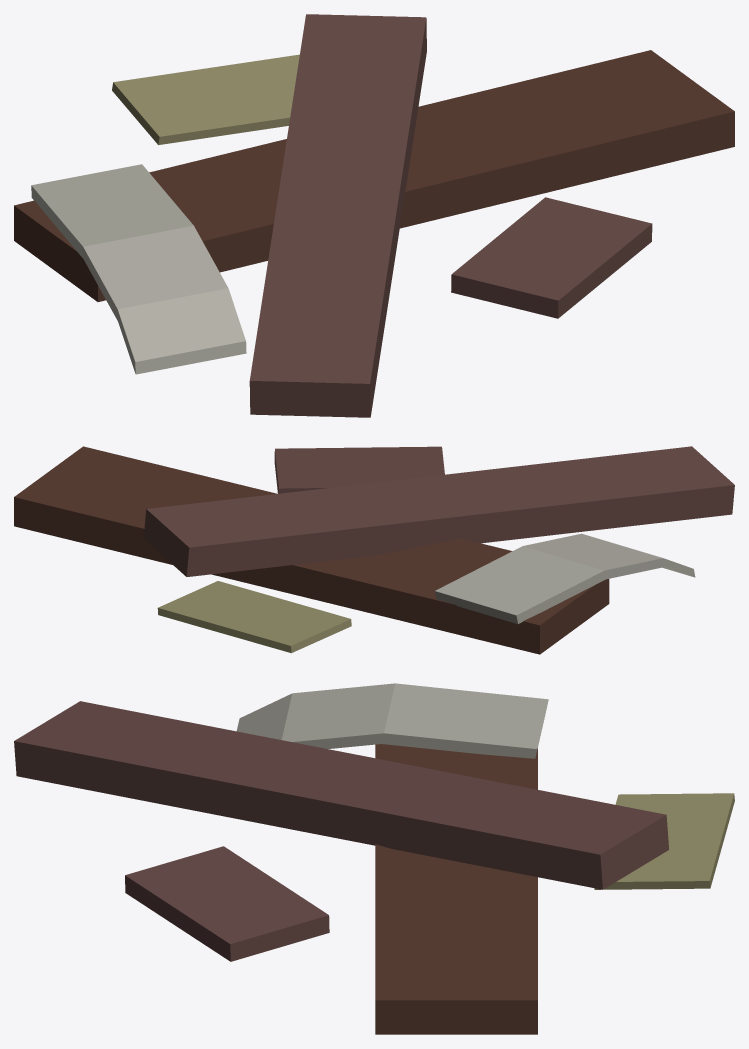
The model's file is trash.fbx.
The picture shows the model from 3 angles, top to bottom: view 1: azimuth 30°, elevation 25°; view 2: azimuth 150°, elevation 25°; view 3: azimuth 270°, elevation 25°; orthographic projection. The views are drawn at different scales.
Parts seen in each view (by area): view 1: trash; view 2: trash; view 3: trash.
Part boxes in pixels (left/top/right/bottom): trash: left=14, top=14, right=734, bottom=417; trash: left=14, top=446, right=734, bottom=654; trash: left=14, top=683, right=734, bottom=1034.
Size of the model in its own units: 210 by 31.17 by 202.
